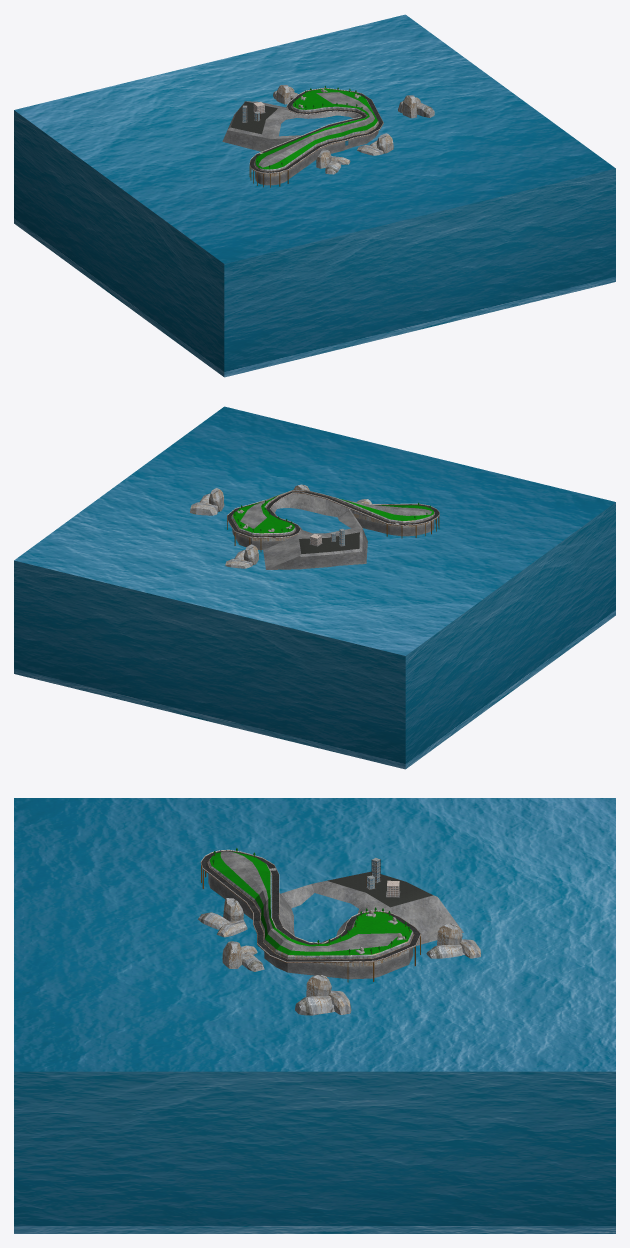
File: LEVEL3.fbx
3 renders of one model, top to bottom at view 1: azimuth 30°, elevation 25°; view 2: azimuth 150°, elevation 25°; view 3: azimuth 270°, elevation 25°, orthographic. The views are drawn at different scales.
Visible parts, largest first — view 1: water_terrain, map_terrain, rocks, track_sidewalls, crash_barrier; view 2: water_terrain, map_terrain, rocks, track_sidewalls; view 3: water_terrain, map_terrain, rocks, track_sidewalls, crash_barrier.
Boxes of the visible parts, x1=… form: water_terrain: x1=14, y1=14, x2=615, y2=377; map_terrain: x1=222, y1=88, x2=378, y2=185; rocks: x1=273, y1=85, x2=434, y2=174; track_sidewalls: x1=249, y1=88, x2=383, y2=173; crash_barrier: x1=249, y1=87, x2=383, y2=173; water_terrain: x1=14, y1=406, x2=615, y2=769; map_terrain: x1=232, y1=490, x2=434, y2=569; rocks: x1=190, y1=484, x2=371, y2=568; track_sidewalls: x1=227, y1=491, x2=439, y2=538; water_terrain: x1=14, y1=798, x2=615, y2=1233; map_terrain: x1=208, y1=851, x2=463, y2=979; rocks: x1=198, y1=898, x2=480, y2=1015; track_sidewalls: x1=200, y1=850, x2=421, y2=962; crash_barrier: x1=201, y1=849, x2=420, y2=961.
Bounding box in the file's own units: 140073 × 48665 × 130357.
